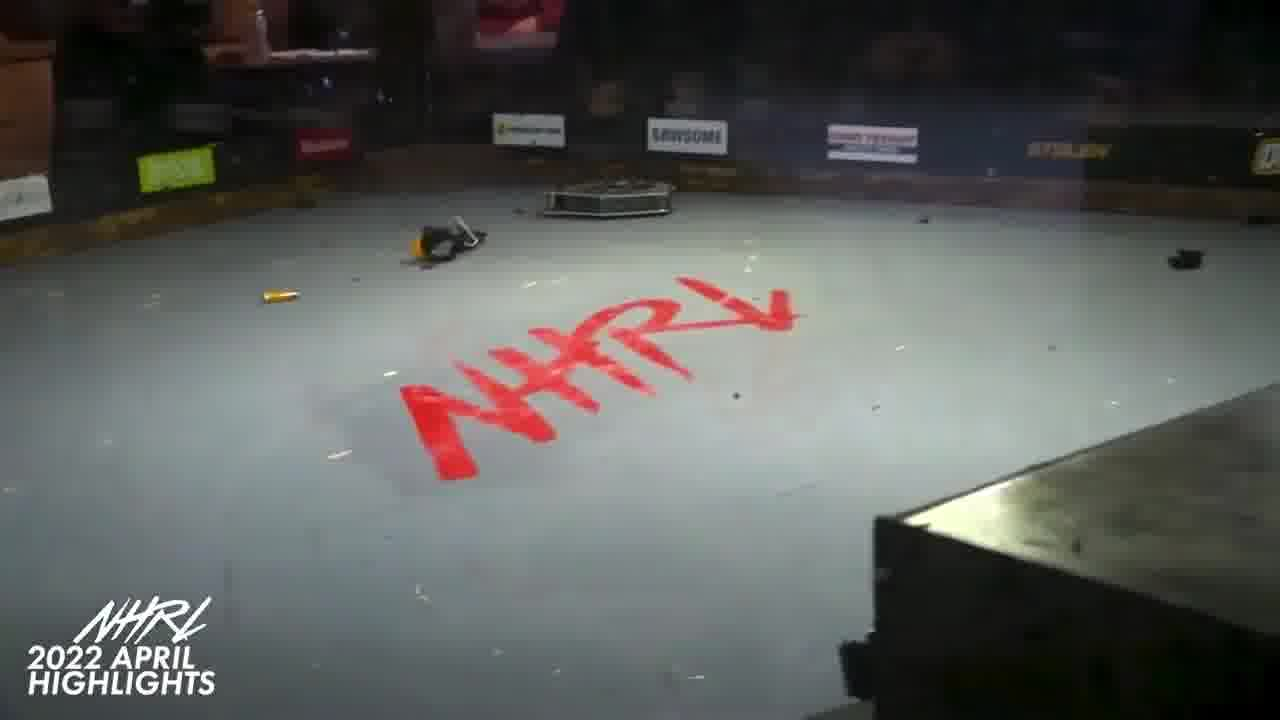combatbot: (542, 178, 673, 221)
debris: (416, 217, 484, 271), (1166, 248, 1206, 271), (264, 290, 299, 303)
housebot: (876, 380, 1277, 719)
